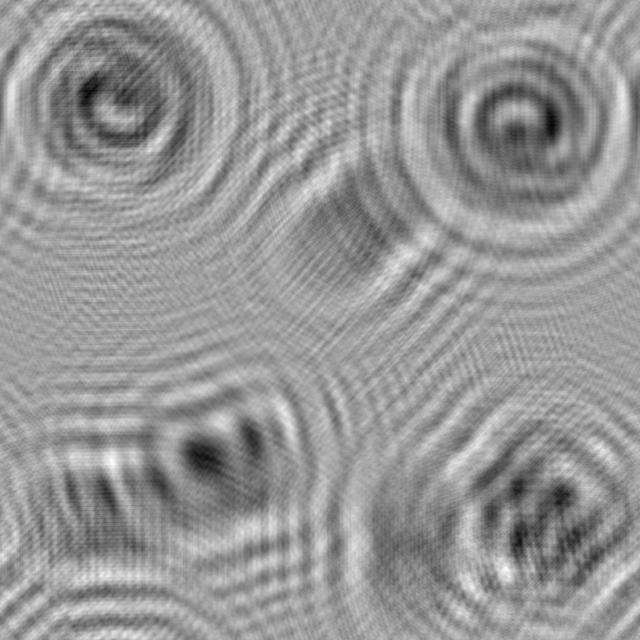F: (81, 324, 359, 582)
G: (391, 0, 640, 250), (0, 0, 253, 236)
H: (412, 368, 640, 640)
I: (214, 85, 487, 344), (304, 397, 501, 640), (0, 397, 197, 598)
